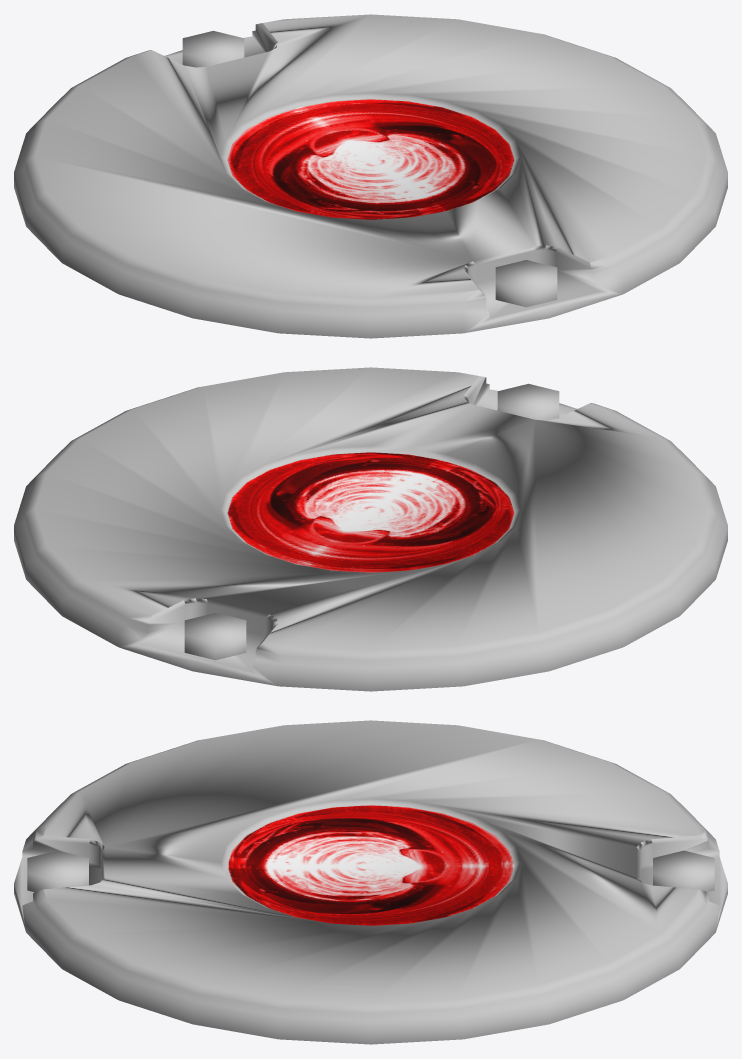
Rendered from startbahn_endfeuer_rot.fbx.
3 views of the same model, one above another, from view 1: azimuth 30°, elevation 25°; view 2: azimuth 150°, elevation 25°; view 3: azimuth 270°, elevation 25° (orthographic).
Parts seen in each view (by area): view 1: Mesh; view 2: Mesh; view 3: Mesh.
Boxes of the visible parts, <box> form: Mesh: <box>14,14,727,338</box>; Mesh: <box>14,367,727,691</box>; Mesh: <box>14,720,727,1044</box>.
Size of the model in its own units: 27.66 by 1.34 by 27.66.
